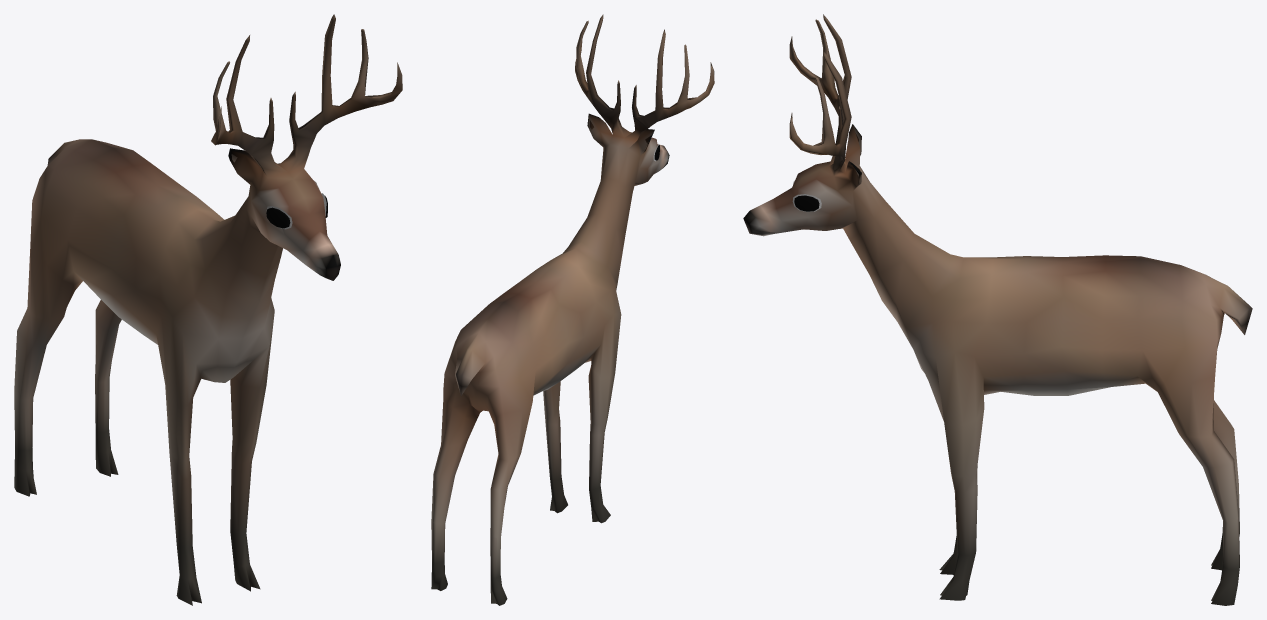
Rendered from Deer1.gltf.
The picture shows the model from 3 angles, left to right: view 1: azimuth 30°, elevation 25°; view 2: azimuth 150°, elevation 25°; view 3: azimuth 270°, elevation 25°; orthographic projection. The views are drawn at different scales.
Parts seen in each view (by area): view 1: alt584; view 2: alt584; view 3: alt584.
Boxes of the visible parts, x1,y1,x2,y2 form: alt584: [14, 14, 402, 605]; alt584: [431, 14, 714, 605]; alt584: [743, 14, 1252, 605].
Bounding box in the file's own units: 0.696 × 2.21 × 1.84.
